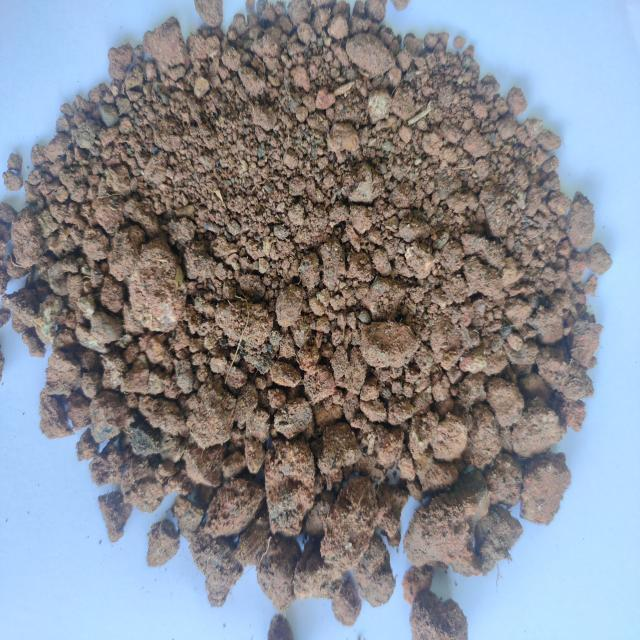soil: (64, 108, 573, 574)
